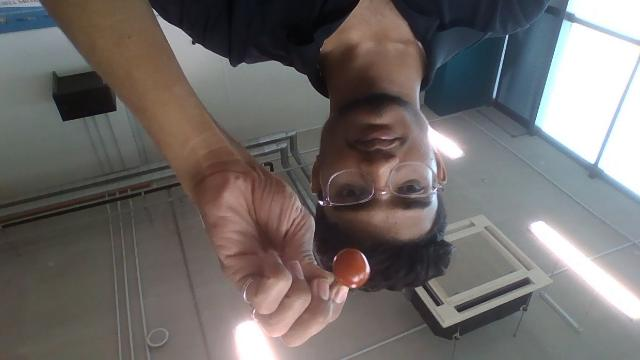Fully Grown: (331, 247, 371, 291)
